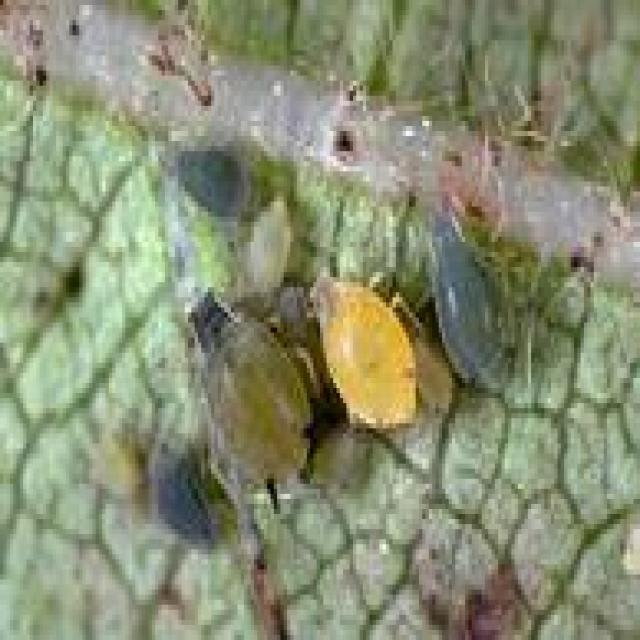Aphids: (132, 113, 538, 578)
